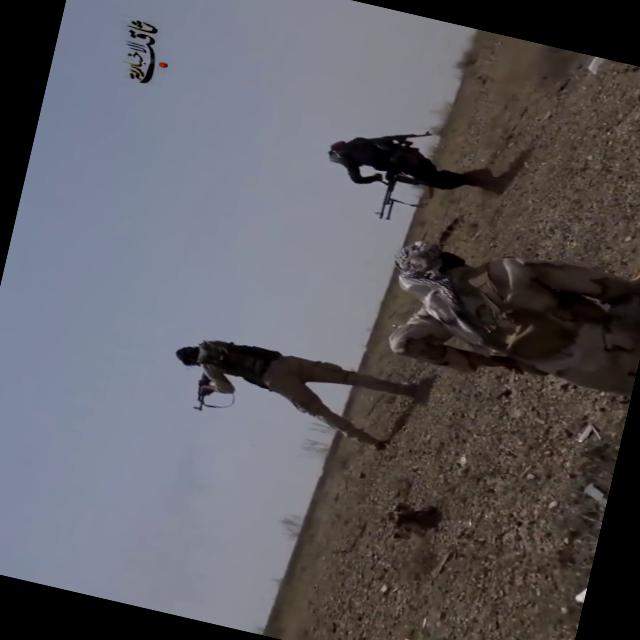long weapon: (346, 103, 446, 167), (362, 162, 423, 234), (179, 366, 230, 422)
